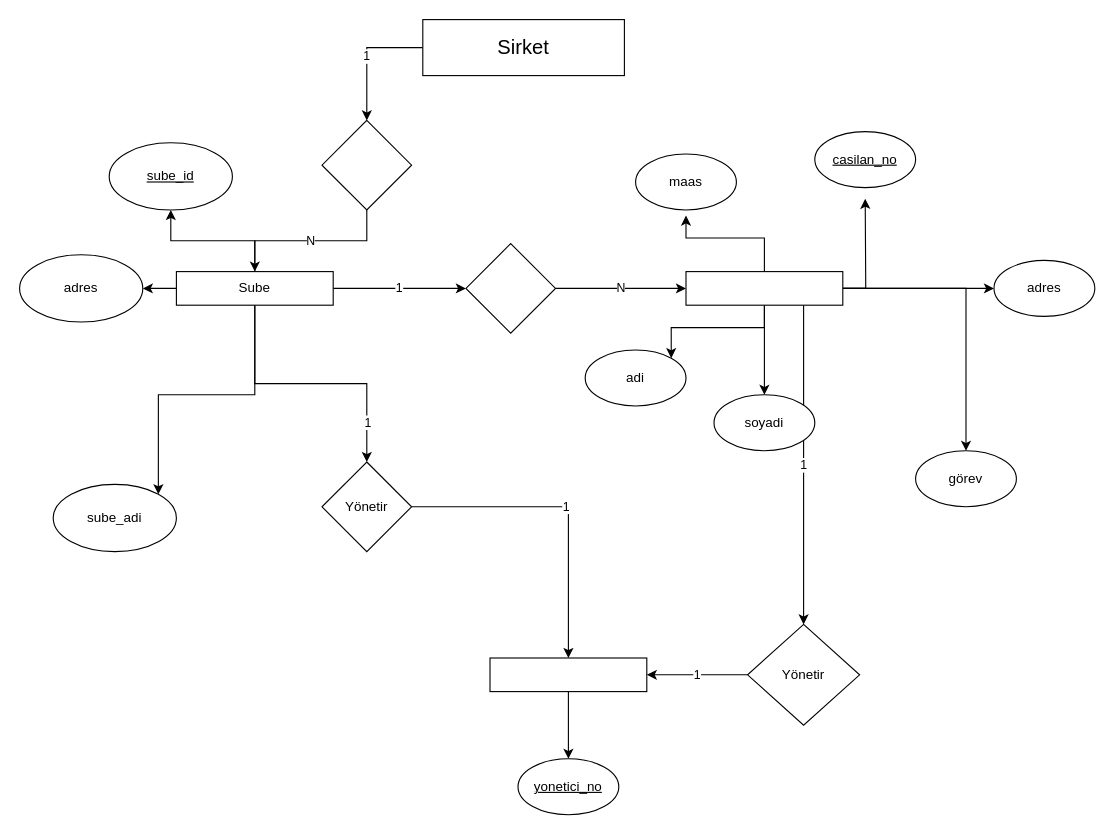
This 1114x834 diagram has some shape labels left out. The box of each missing label's shape, as (x1, y1, x2, y2) in pixels:
Calisan: (685, 270, 843, 305)
Sahip: (321, 119, 412, 210)
Yonetici: (489, 657, 647, 692)
Çalışır: (465, 242, 556, 333)
